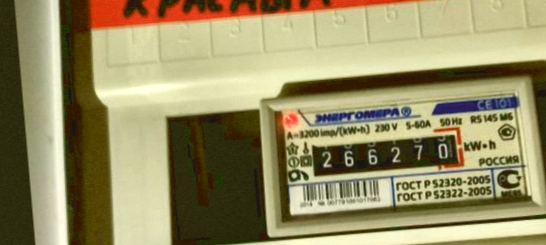0: (435, 141, 447, 162)
2: (318, 149, 334, 171), (388, 145, 402, 166)
6: (341, 149, 355, 170), (365, 147, 379, 167)
7: (411, 143, 424, 163)
screen: (297, 120, 474, 191)
